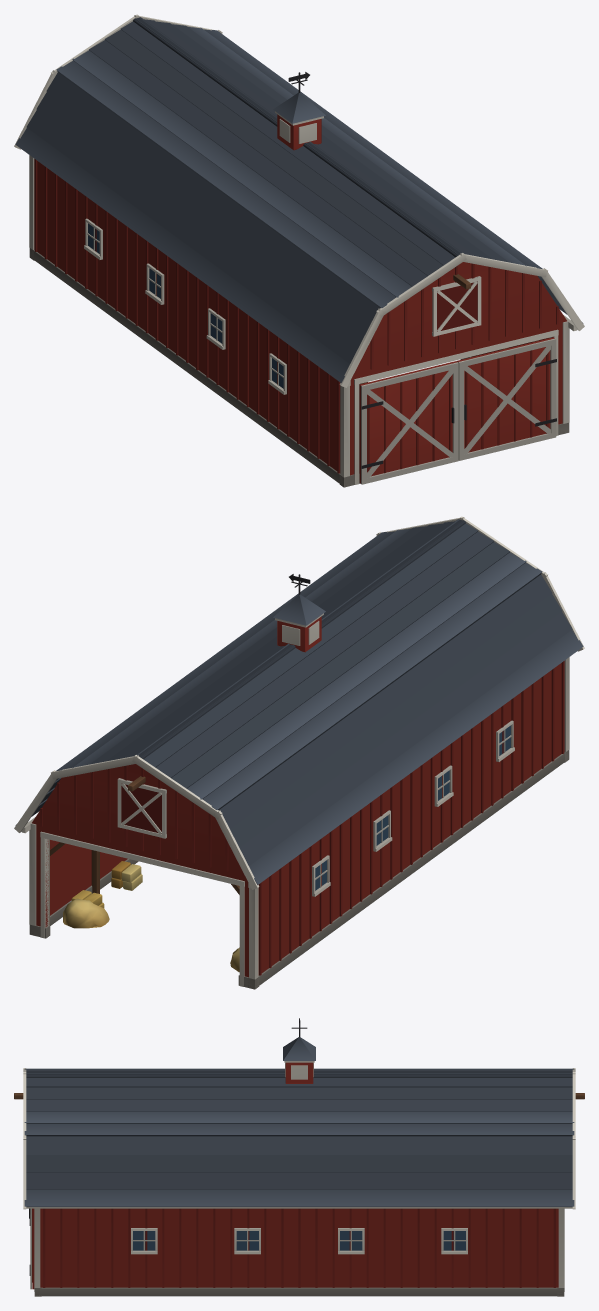
Rendered from prop.barn.glb.
3 views of the same model, one above another, from view 1: azimuth 30°, elevation 25°; view 2: azimuth 150°, elevation 25°; view 3: azimuth 270°, elevation 25° (orthographic). The views are drawn at different scales.
Parts seen in each view (by area): view 1: barn, door_r, door_l; view 2: barn; view 3: barn, door_l.
Boxes of the visible parts, <box> form: barn: <box>14,14,584,487</box>; door_r: <box>359,361,458,484</box>; door_l: <box>456,337,556,460</box>; barn: <box>14,516,584,989</box>; barn: <box>14,1018,584,1296</box>; door_l: <box>29,1208,34,1289</box>.
Size of the model in its own units: 13.76 by 14.7 by 33.1.
